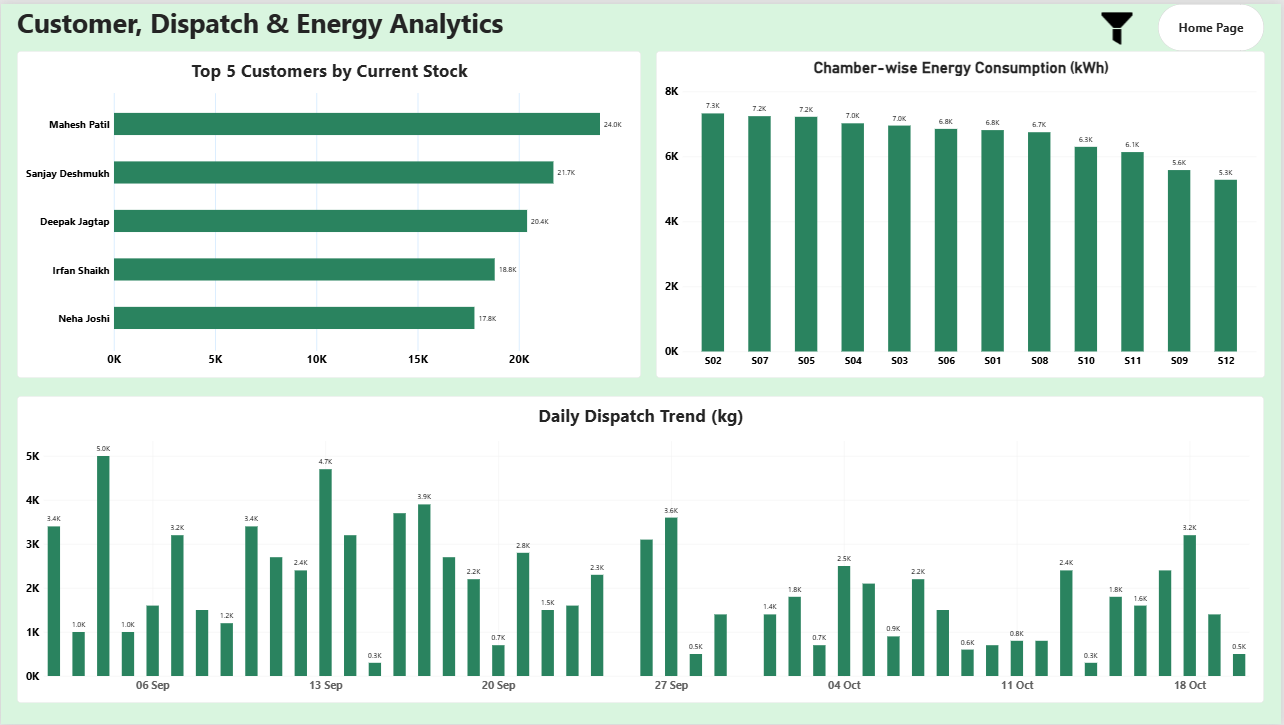

The page's visual inventory and layout, read from the dashboard file:
{"tool":"powerbi","page":{"name":"Customer, Dispatch & Energy Analytics","canvas":[2560,1440],"ordinal":2},"visuals":[{"type":"clusteredBarChart","title":"Top 5 Customers by Current Stock","fields":{"Category":["T_Inventory_Snapshot.Customer_Name"],"Y":["Sum(T_Inventory_Snapshot.Current_Qty_kg)"]},"box":[32,94,1248,654],"z":0},{"type":"clusteredColumnChart","title":"Daily Dispatch Trend (kg)","fields":{"Category":["DimDate.Date"],"Y":["Sum(T_Dispatches.Dispatched_Qty_kg)"]},"box":[32,784,2494,614],"z":1000},{"type":"clusteredColumnChart","title":"Chamber-wise Energy Consumption (kWh)","fields":{"Category":["T_Chambers.Chamber_ID"],"Y":["Sum(T_Energy_Daily.Electricity_kWh)"]},"box":[1310,94,1218,654],"z":2000},{"type":"textbox","box":[32,0,1248,76],"z":3000},{"type":"pageNavigator","box":[2314,0,212,94],"z":4000},{"type":"actionButton","box":[2174,10,116,76],"z":5000}]}

Visuals, with their boxes in screenshot pixels (x1, y1, x2, y2), scaled from the page's 2560x1440 canvas onto the 1284x725 screenshot:
"Top 5 Customers by Current Stock" clusteredBarChart: 16 47 642 377
"Daily Dispatch Trend (kg)" clusteredColumnChart: 16 395 1267 704
"Chamber-wise Energy Consumption (kWh)" clusteredColumnChart: 657 47 1268 377
textbox: 16 0 642 38
pageNavigator: 1161 0 1267 47
actionButton: 1090 5 1149 43
